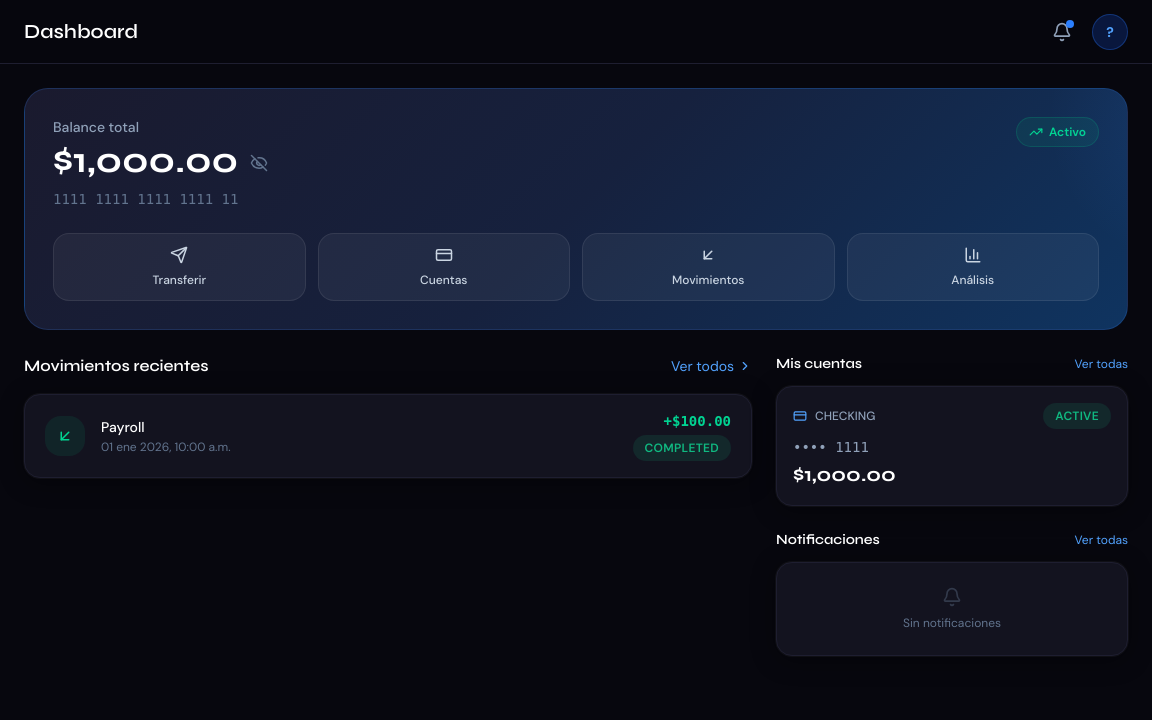
it: DashboardPage › toggling the eye icon hides/shows the balance
This screenshot has width=1152, height=720.
Expected: the heading "$1,000.00" is shown, [53, 141, 238, 181]
What coordinates should you click on to do the following:
click the button
I would click on:
 (259, 163)
Its box is [250, 154, 268, 172].
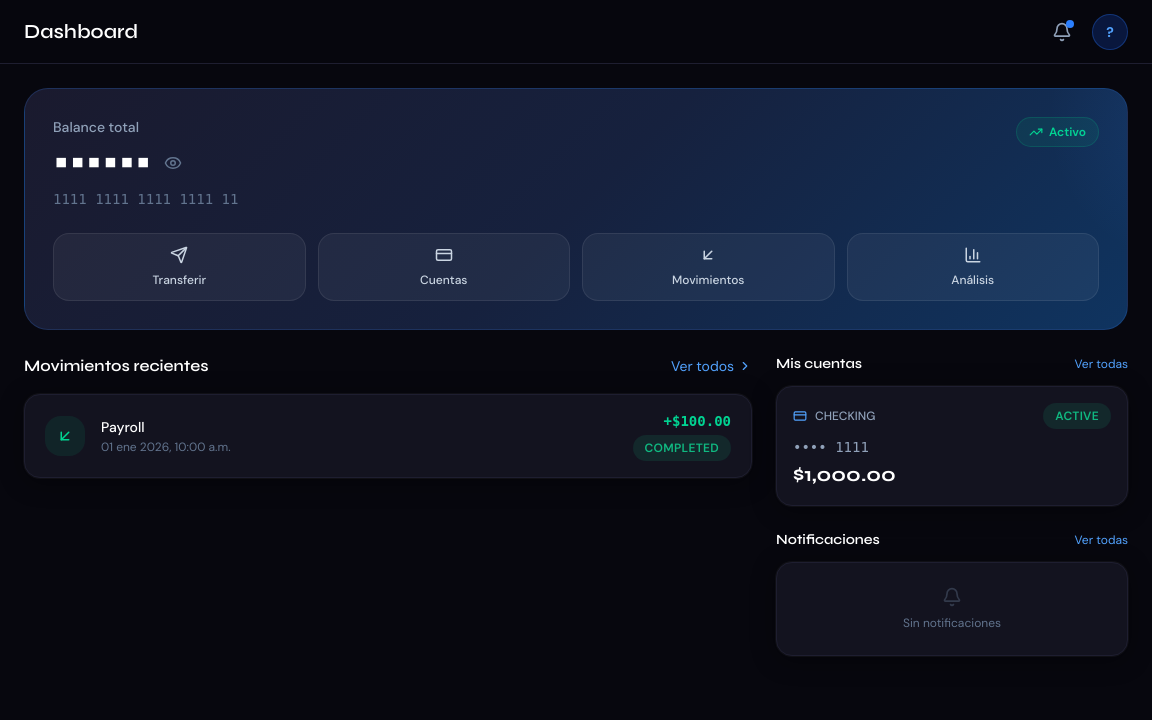
Expected: the heading "••••••" is shown, [53, 141, 152, 181]
What coordinates should you click on to do the following:
click the button
I would click on:
 (172, 163)
Its box is [164, 154, 182, 172].
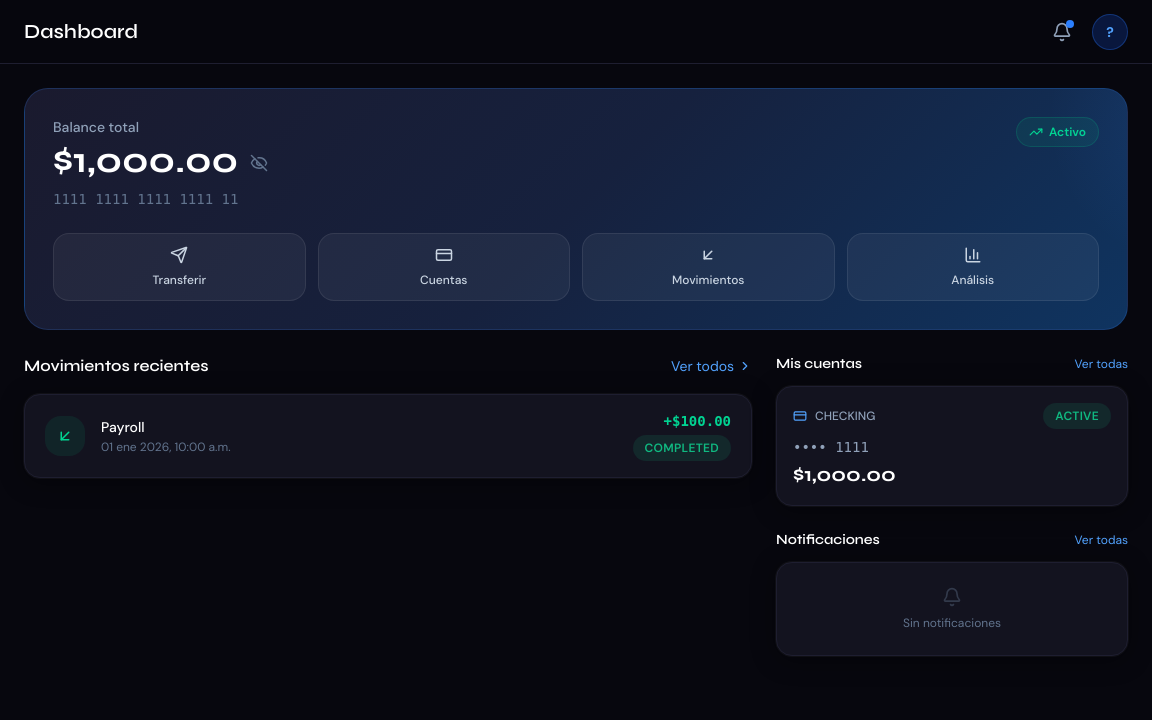
Expected: the heading "$1,000.00" is shown, [53, 141, 238, 181]
